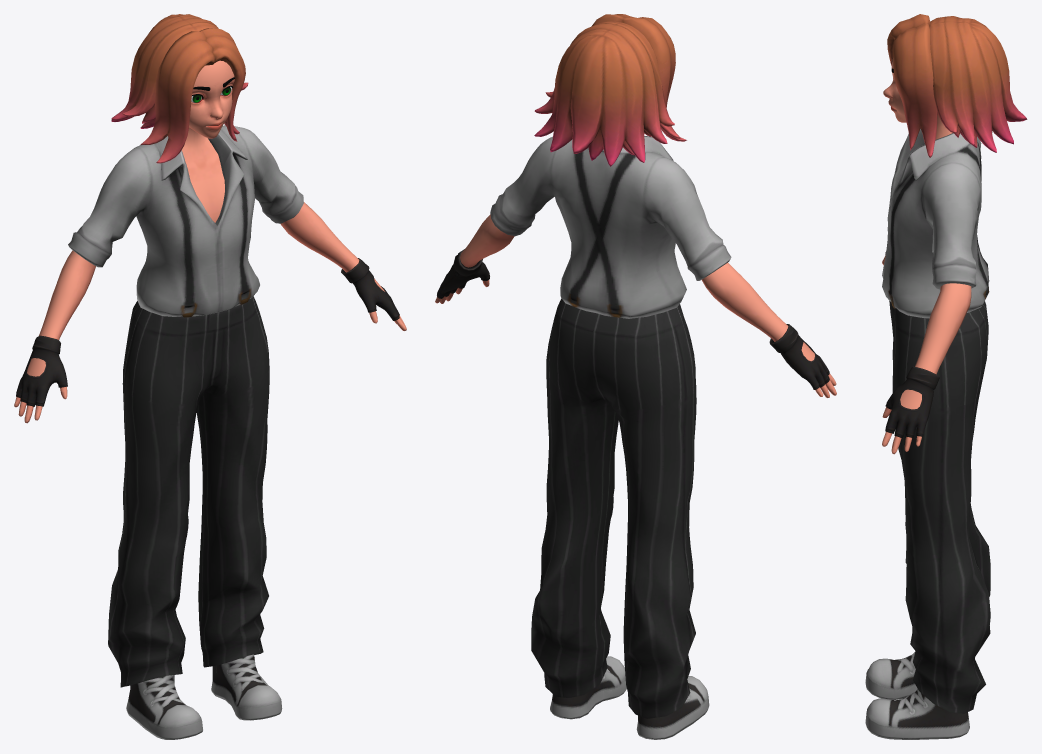
The model's file is StaffMary_Mesh.obj.
The picture shows the model from 3 angles, left to right: view 1: azimuth 30°, elevation 25°; view 2: azimuth 150°, elevation 25°; view 3: azimuth 270°, elevation 25°; orthographic projection. The views are drawn at different scales.
Parts seen in each view (by area): view 1: StaffMary_Mesh_0; view 2: StaffMary_Mesh_0; view 3: StaffMary_Mesh_0.
Part boxes in pixels (bbox=[...]): StaffMary_Mesh_0: bbox=[14, 14, 406, 739]; StaffMary_Mesh_0: bbox=[435, 14, 836, 739]; StaffMary_Mesh_0: bbox=[865, 14, 1027, 739].
Size of the model in its own units: 1.06 by 1.8 by 0.3835.
Materials: 1 (1 with a texture image).
